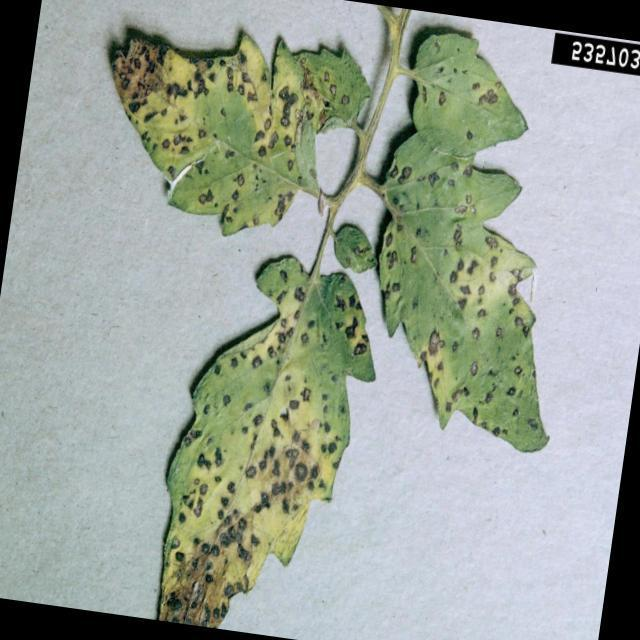Septoria: (145, 248, 385, 640), (106, 3, 354, 245), (364, 234, 586, 458), (397, 33, 512, 152), (370, 150, 486, 236), (324, 218, 384, 274)
